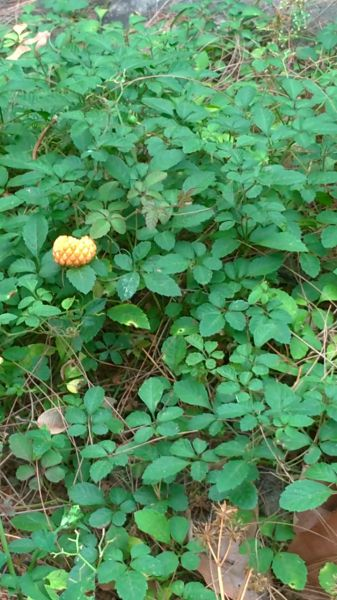eggs: (47, 233, 99, 268)
